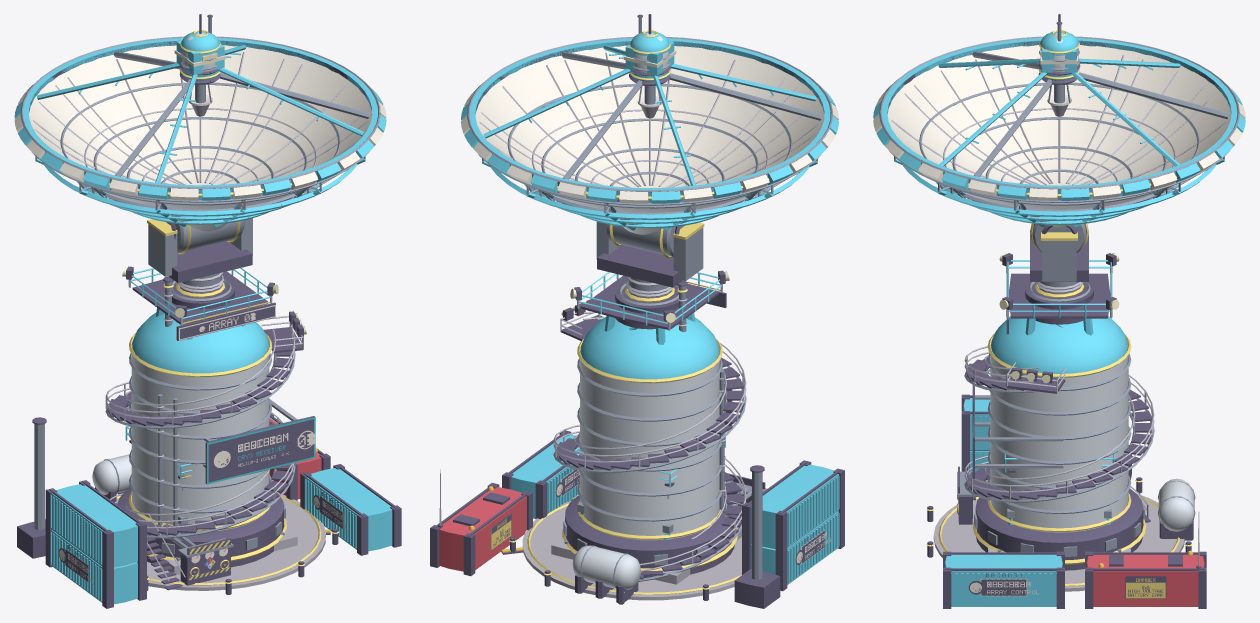
File: dish.glb
3 renders of one model, left to right at view 1: azimuth 30°, elevation 25°; view 2: azimuth 150°, elevation 25°; view 3: azimuth 270°, elevation 25°, orthographic.
Visible parts, largest first — view 1: dish_cryo_face, dish_cryo_shell, dish_cryo_dome, dish_cryo_collar, dish_cryo_treads, dish_cryo_pad, dish_gantry_boxB, dish_cryo_panel_kepler_dark, dish_gantry_boxC, dish_gantry_seams, dish_cryo_skirt, dish_cryo_collarBands (+41 smaller); view 2: dish_cryo_face, dish_cryo_shell, dish_cryo_dome, dish_cryo_pad, dish_cryo_collar, dish_cryo_treads, dish_cryo_skirt, dish_gantry_bank, dish_cryo_bands, dish_gantry_seams, dish_gantry_boxB, dish_cryo_collarBands (+36 smaller); view 3: dish_cryo_face, dish_cryo_shell, dish_cryo_dome, dish_cryo_skirt, dish_cryo_collar, dish_gantry_bank, dish_gantry_boxC, dish_cryo_treads, dish_cryo_bands, dish_gantry_seams, dish_cryo_pad, dish_cryo_collarBands (+32 smaller).
Boxes of the visible parts, left/top/right/bottom form: dish_cryo_face: left=29, top=45, right=371, bottom=185; dish_cryo_shell: left=131, top=354, right=269, bottom=531; dish_cryo_dome: left=132, top=312, right=268, bottom=377; dish_cryo_collar: left=23, top=38, right=377, bottom=199; dish_cryo_treads: left=107, top=351, right=293, bottom=536; dish_cryo_pad: left=116, top=493, right=325, bottom=590; dish_gantry_boxB: left=51, top=484, right=137, bottom=567; dish_cryo_panel_kepler_dark: left=208, top=419, right=313, bottom=482; dish_gantry_boxC: left=306, top=468, right=392, bottom=551; dish_gantry_seams: left=34, top=52, right=366, bottom=184; dish_cryo_skirt: left=117, top=488, right=283, bottom=567; dish_cryo_collarBands: left=20, top=36, right=380, bottom=202; dish_cryo_face: left=475, top=45, right=824, bottom=187; dish_cryo_shell: left=580, top=360, right=719, bottom=540; dish_cryo_dome: left=580, top=317, right=719, bottom=383; dish_cryo_pad: left=522, top=500, right=741, bottom=600; dish_cryo_collar: left=469, top=38, right=830, bottom=202; dish_cryo_treads: left=555, top=357, right=744, bottom=579; dish_cryo_skirt: left=565, top=495, right=734, bottom=577; dish_gantry_bank: left=439, top=487, right=526, bottom=571; dish_cryo_bands: left=577, top=358, right=722, bottom=521; dish_gantry_seams: left=481, top=52, right=818, bottom=187; dish_gantry_boxB: left=751, top=464, right=838, bottom=549; dish_cryo_collarBands: left=467, top=37, right=832, bottom=205; dish_cryo_face: left=887, top=45, right=1231, bottom=185; dish_cryo_shell: left=990, top=355, right=1128, bottom=532; dish_cryo_dome: left=990, top=316, right=1128, bottom=377; dish_cryo_skirt: left=975, top=488, right=1143, bottom=570; dish_cryo_collar: left=881, top=38, right=1237, bottom=200; dish_gantry_bank: left=1087, top=554, right=1204, bottom=606; dish_gantry_boxC: left=945, top=554, right=1062, bottom=606; dish_cryo_treads: left=965, top=357, right=1152, bottom=522; dish_cryo_bands: left=987, top=353, right=1131, bottom=513; dish_gantry_seams: left=891, top=55, right=1227, bottom=185; dish_cryo_pad: left=933, top=494, right=1184, bottom=591; dish_cryo_collarBands: left=879, top=36, right=1239, bottom=202.
Size of the model in its own units: 30.22 by 46.94 by 30.22.
